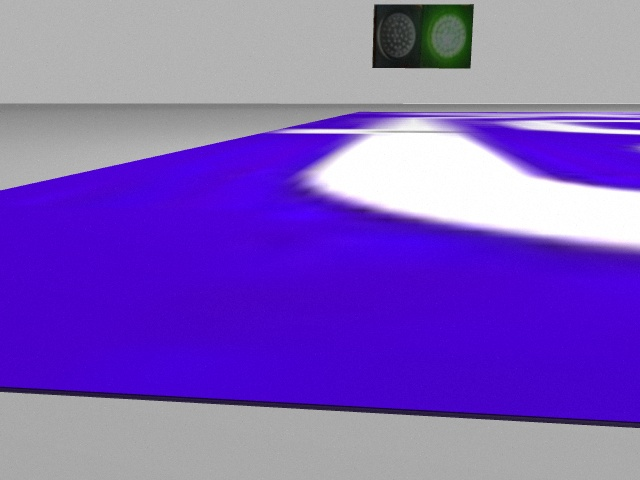green: (421, 5, 473, 71)
